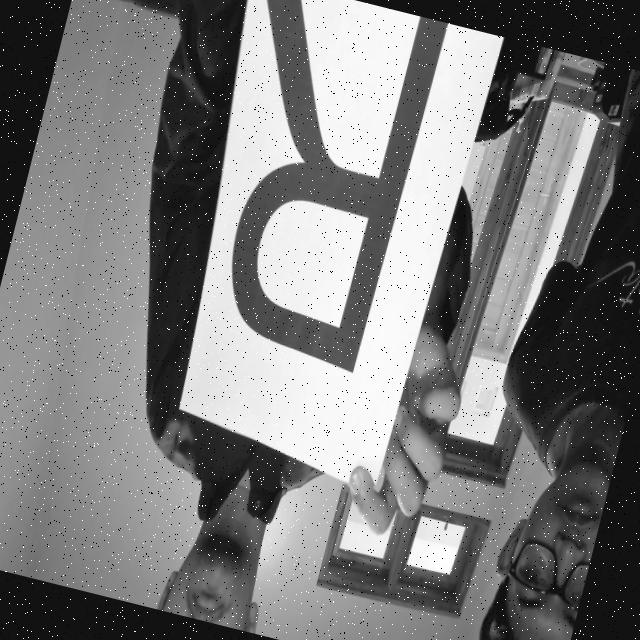r: (146, 0, 459, 416)
